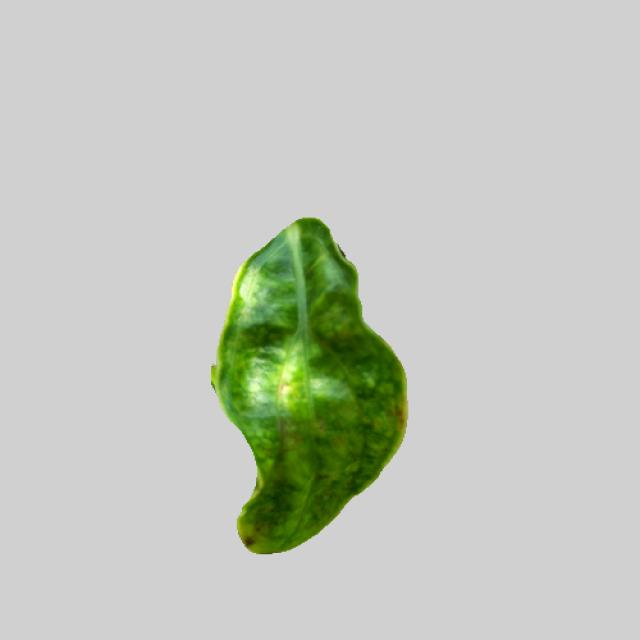yellow-mottle-virus: (194, 208, 408, 556)
